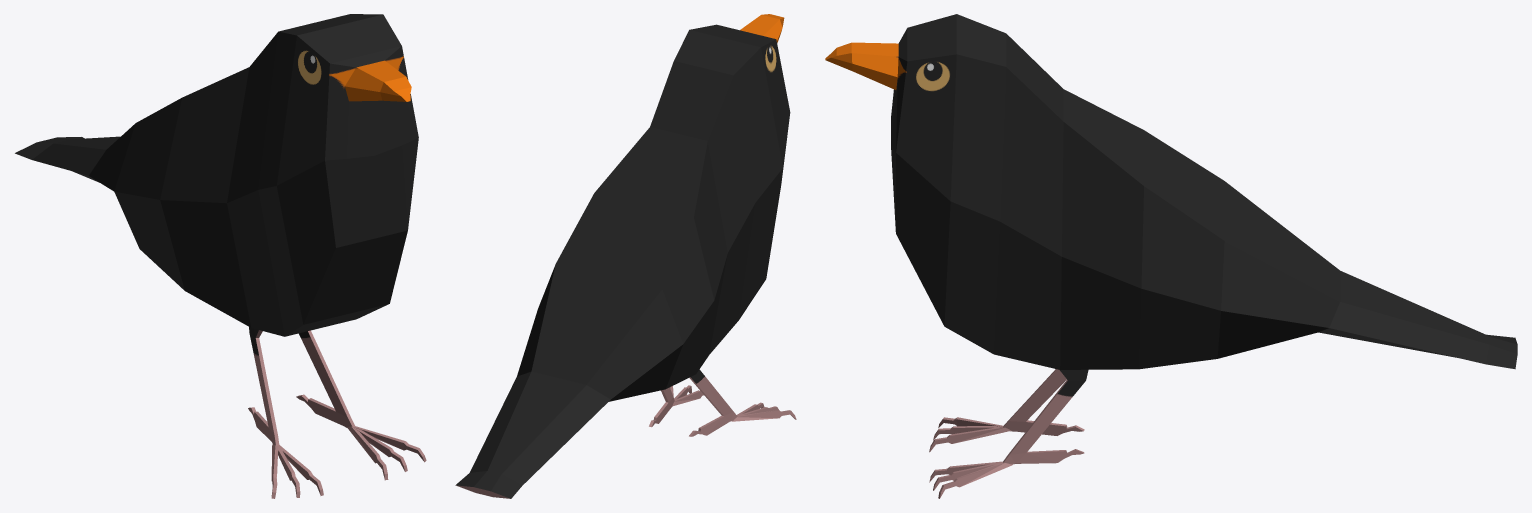
Rendered from strazdas.glb.
The picture shows the model from 3 angles, left to right: view 1: azimuth 30°, elevation 25°; view 2: azimuth 150°, elevation 25°; view 3: azimuth 270°, elevation 25°; orthographic projection. The views are drawn at different scales.
Visible parts, largest first — view 1: Plane.002; view 2: Plane.002; view 3: Plane.002.
Part boxes in pixels (x1,y1,x2,y2): Plane.002: (15,14,426,498); Plane.002: (455,14,796,498); Plane.002: (825,14,1517,498).
Size of the model in its own units: 1.01 by 2.49 by 3.61.
Materials: 1 (1 with a texture image).
